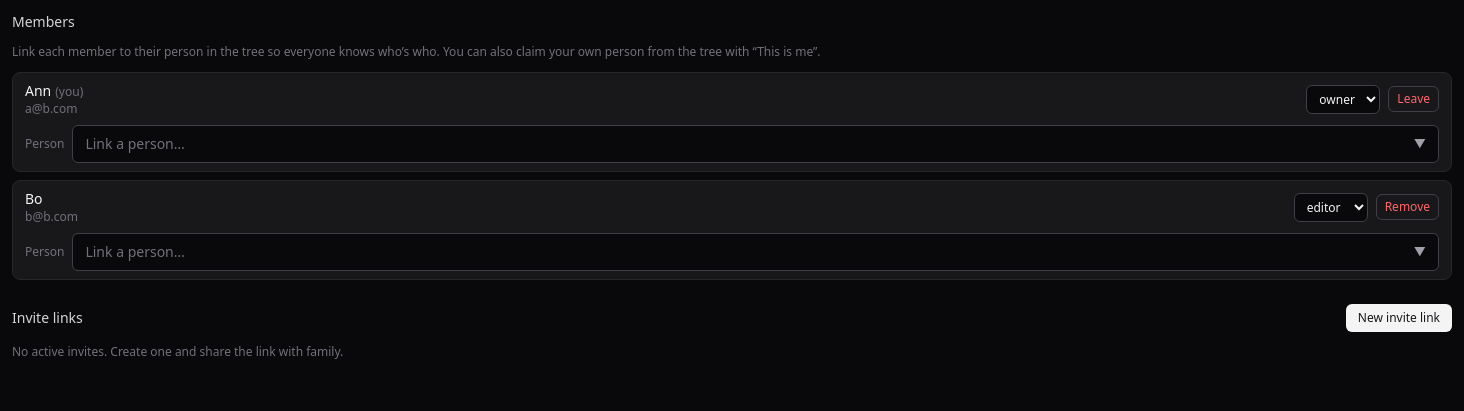
it: MembersPanel › creates an invite link and reloads
Expected: the text "Ann" is shown, [25,81,51,100]
Click the button "New invite link" at (1399, 318), box [1346,304,1452,332]
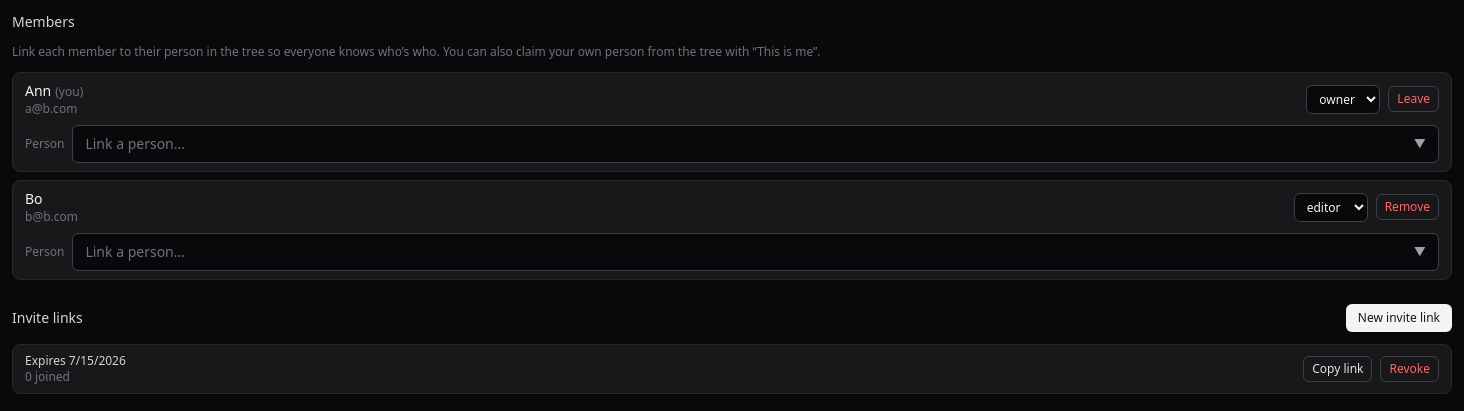
Result: the button "Copy link" is shown at [1303,356,1372,382]
